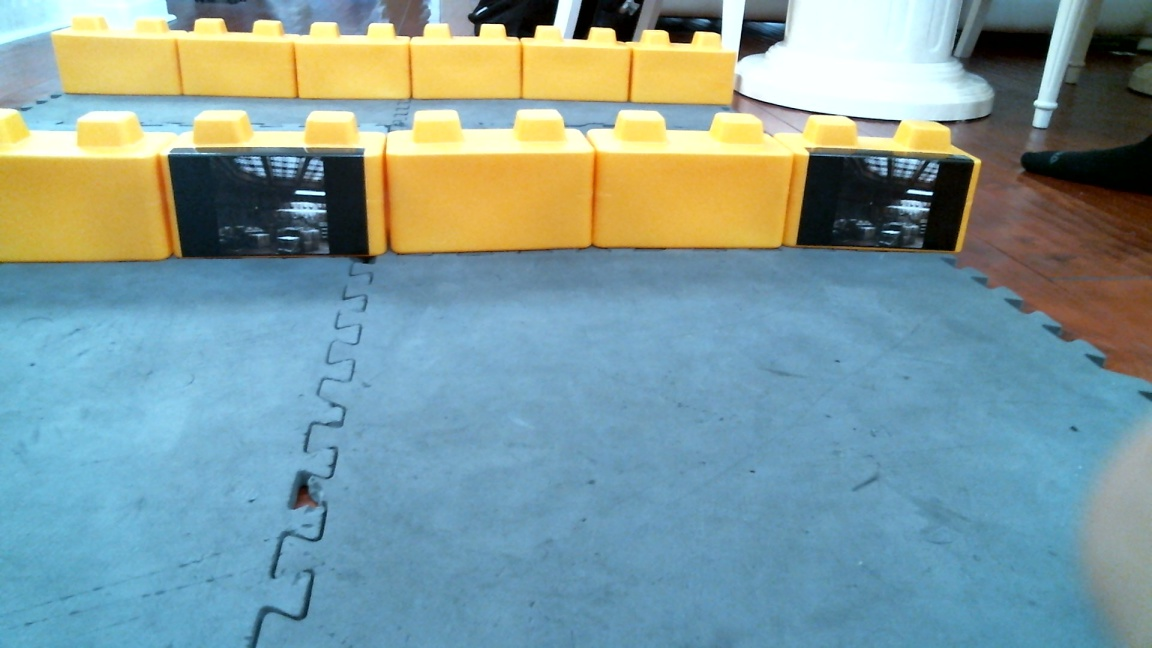skystone: (171, 108, 377, 264), (793, 117, 965, 250)
stone: (388, 102, 593, 259), (590, 105, 786, 256), (1, 108, 170, 260)
